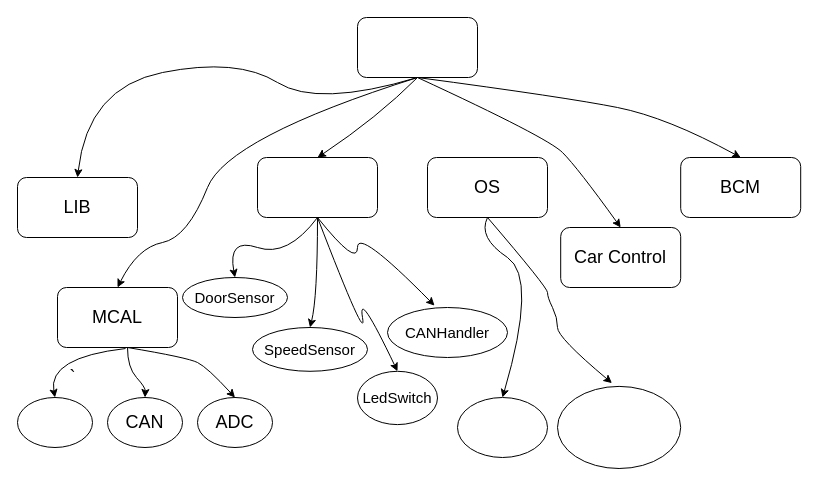
Image size: 819x486. Some labels were removed from this diagram. Here are the shapes that lost their labels. From the top down, the box of each, then its label:
(356, 16, 478, 78): ECU 01
(256, 156, 378, 218): On Board
(16, 396, 92, 448): GPIO
(456, 396, 548, 458): CAManager
(556, 385, 681, 468): SensorsManager
